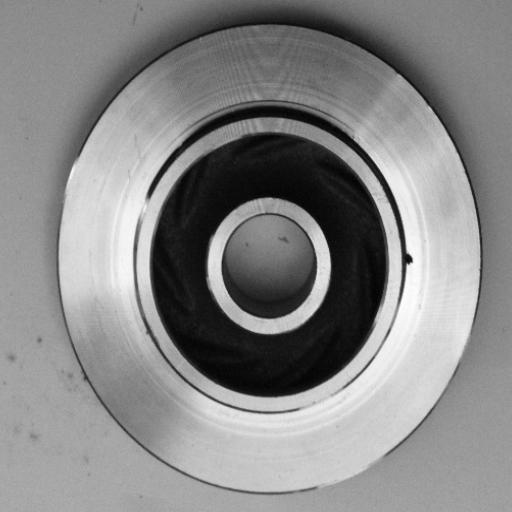crack: (392, 244, 424, 277)
unpolished_casting: (57, 20, 485, 497)
